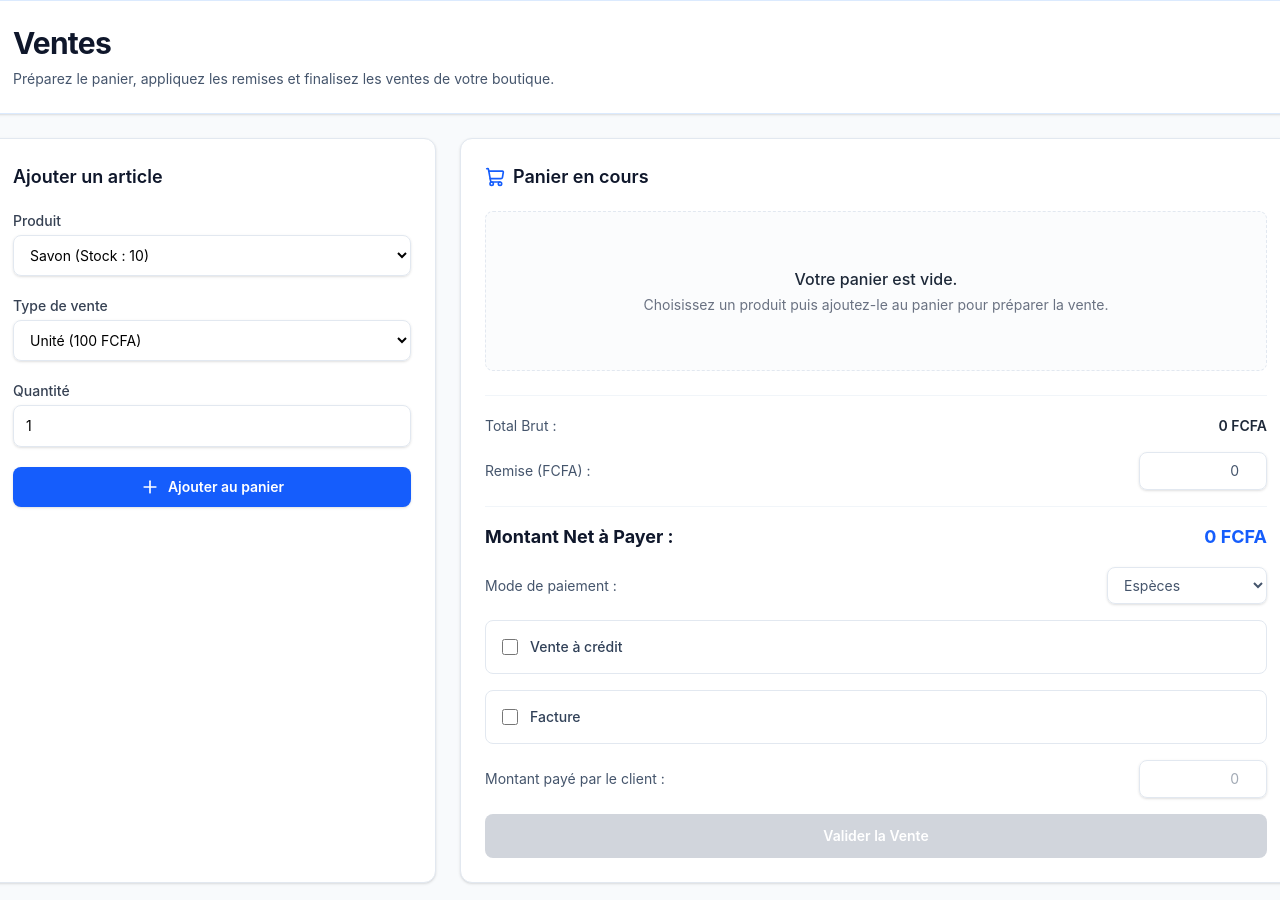
Test: RefusAbonnementExpire, écran Ventes › « Renouveler » ouvre Mon abonnement par-dessus l'écran ; à la fermeture, le panier est intact
Click the button "Ajouter au panier" at (212, 487), box [13,467,411,507]
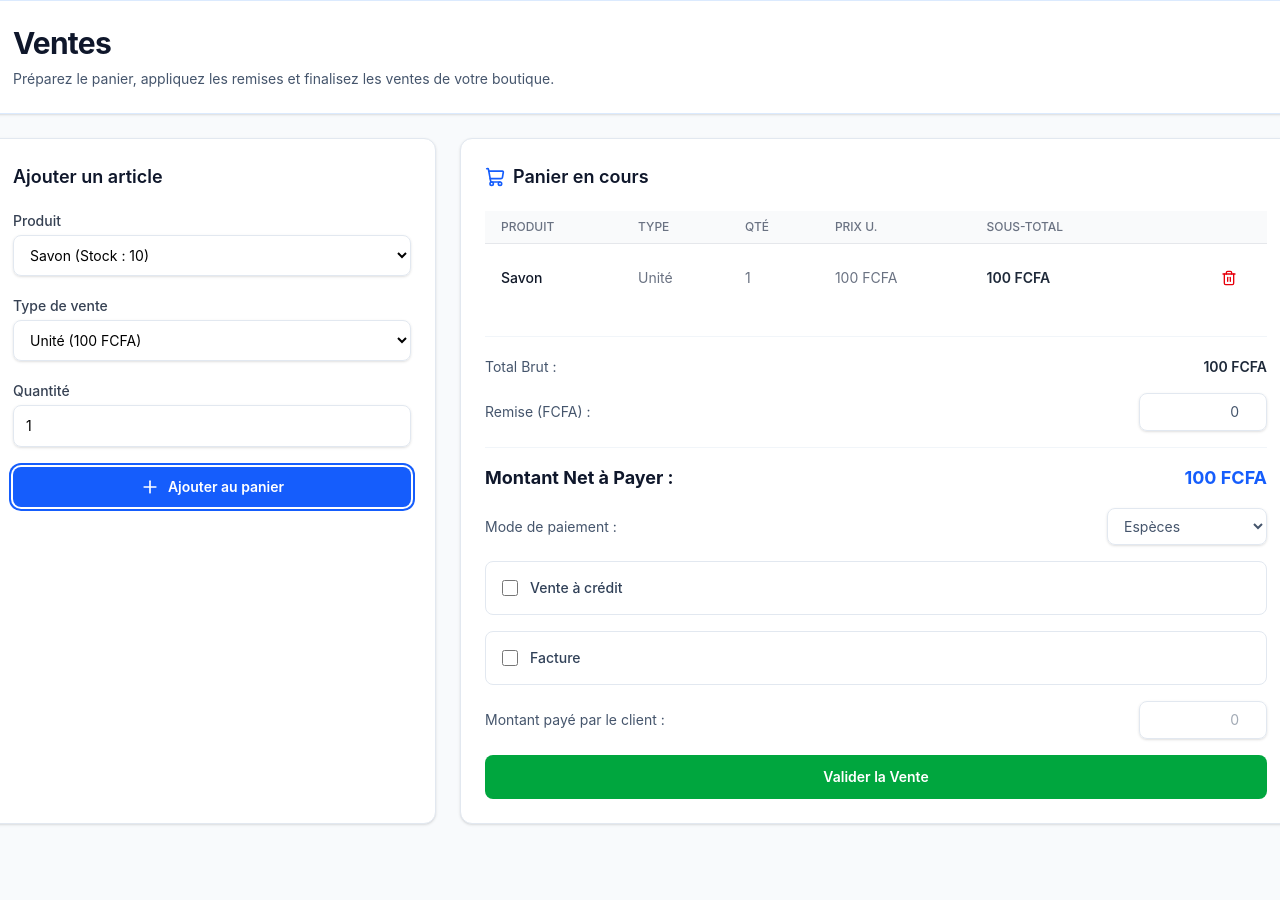
Type "100" into the number field labelled "Montant payé par le client :" at (1203, 720), box [1139,701,1267,739]
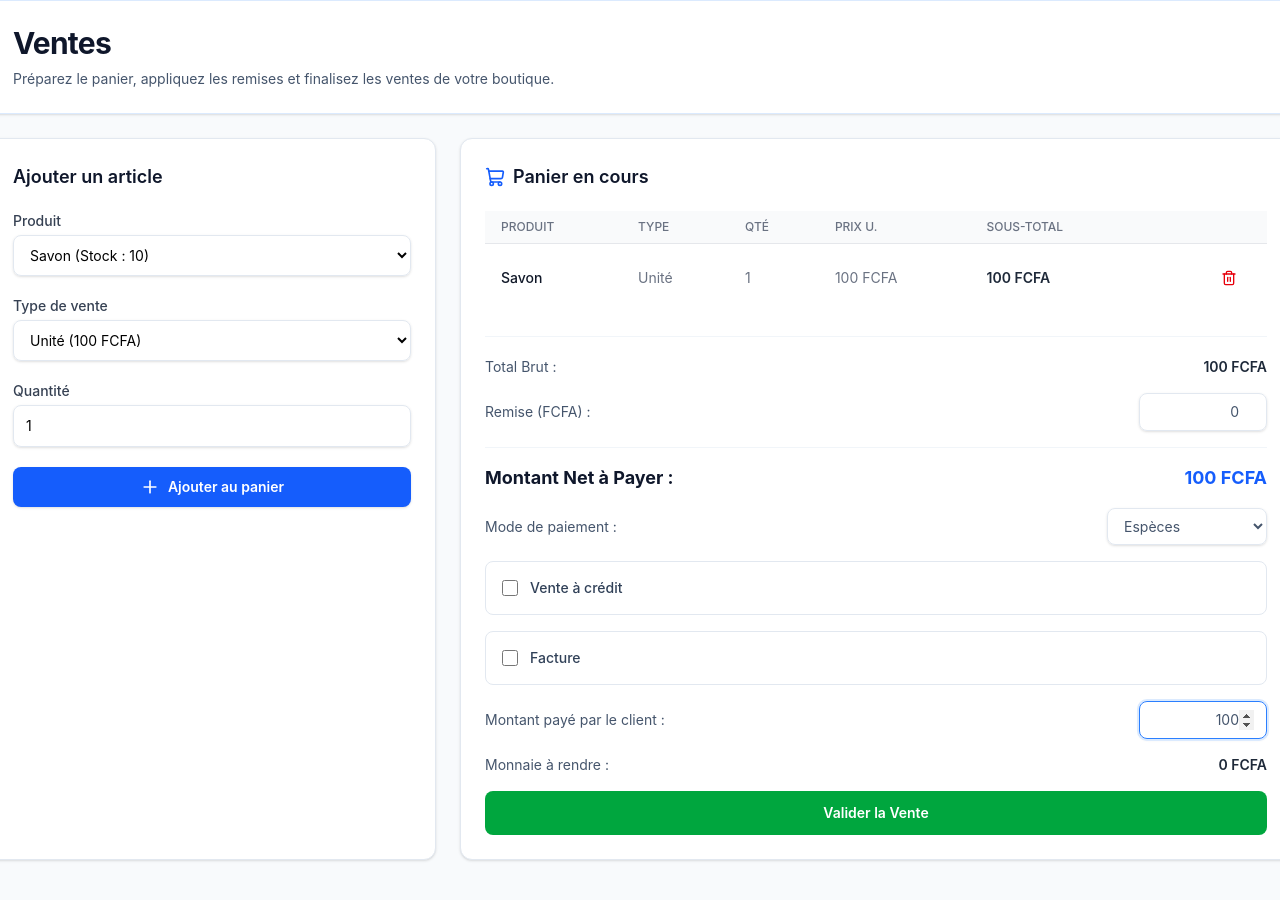
Click the button "Valider la Vente" at (876, 813), box [485,791,1267,835]
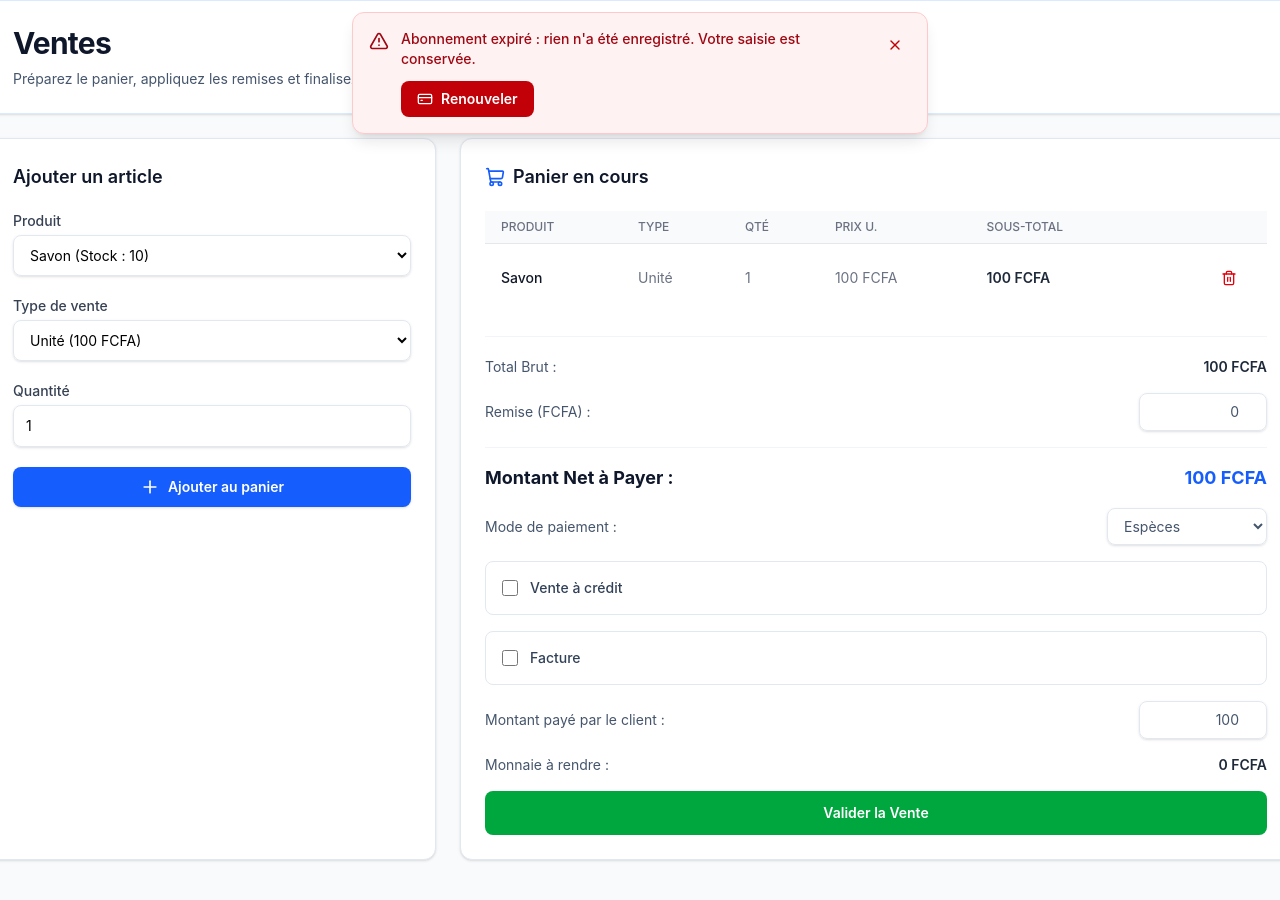
Click the button "Renouveler" at (467, 99), box [401,81,534,117]
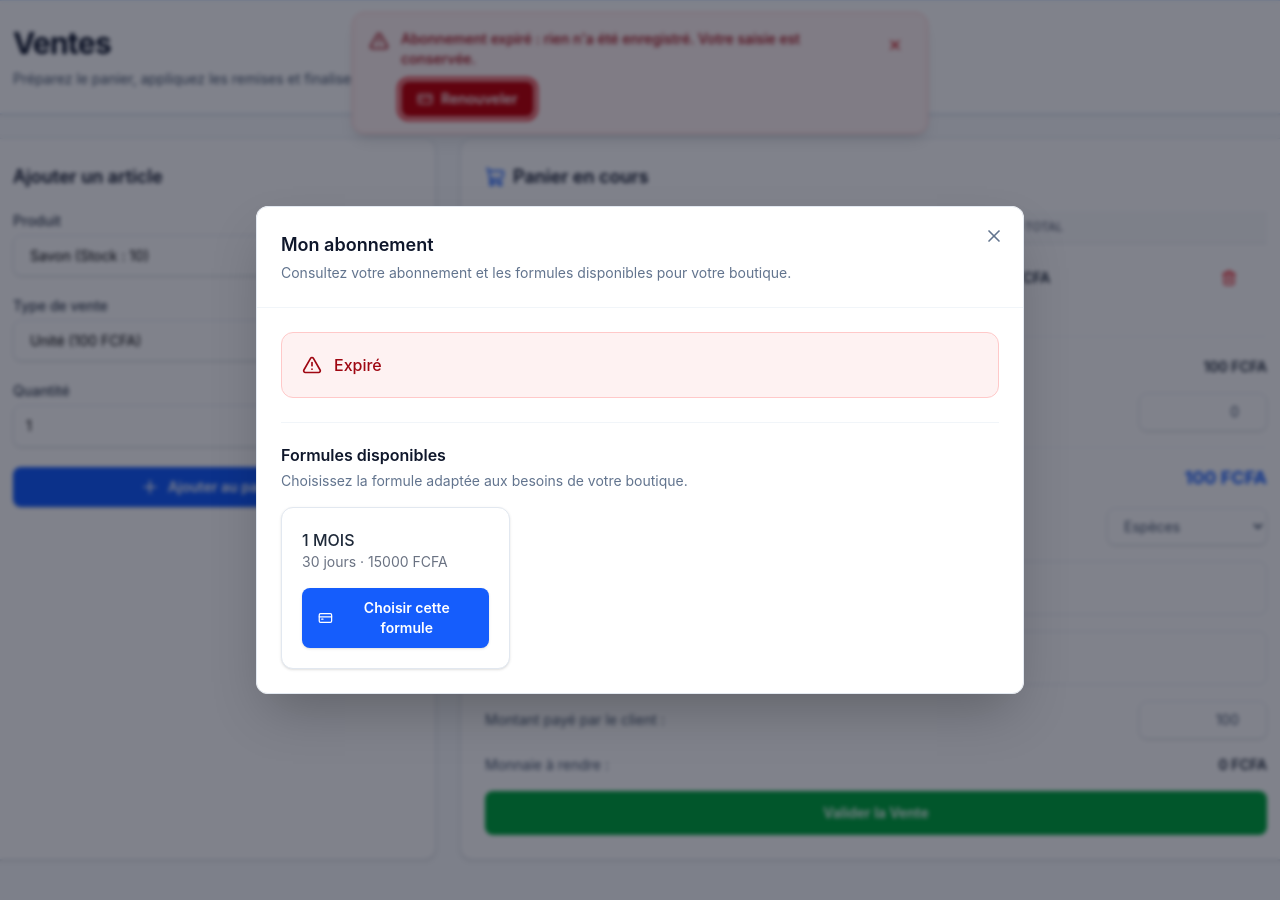
Check: the text "Expiré" is shown, box [334,353,382,377]
Check: the text "1 MOIS" is shown, box [302,530,354,550]
Check: the button "Choisir cette formule" is shown, box [302,588,489,648]
Click the button named "Fermer" at (994, 236), box [976,218,1012,254]
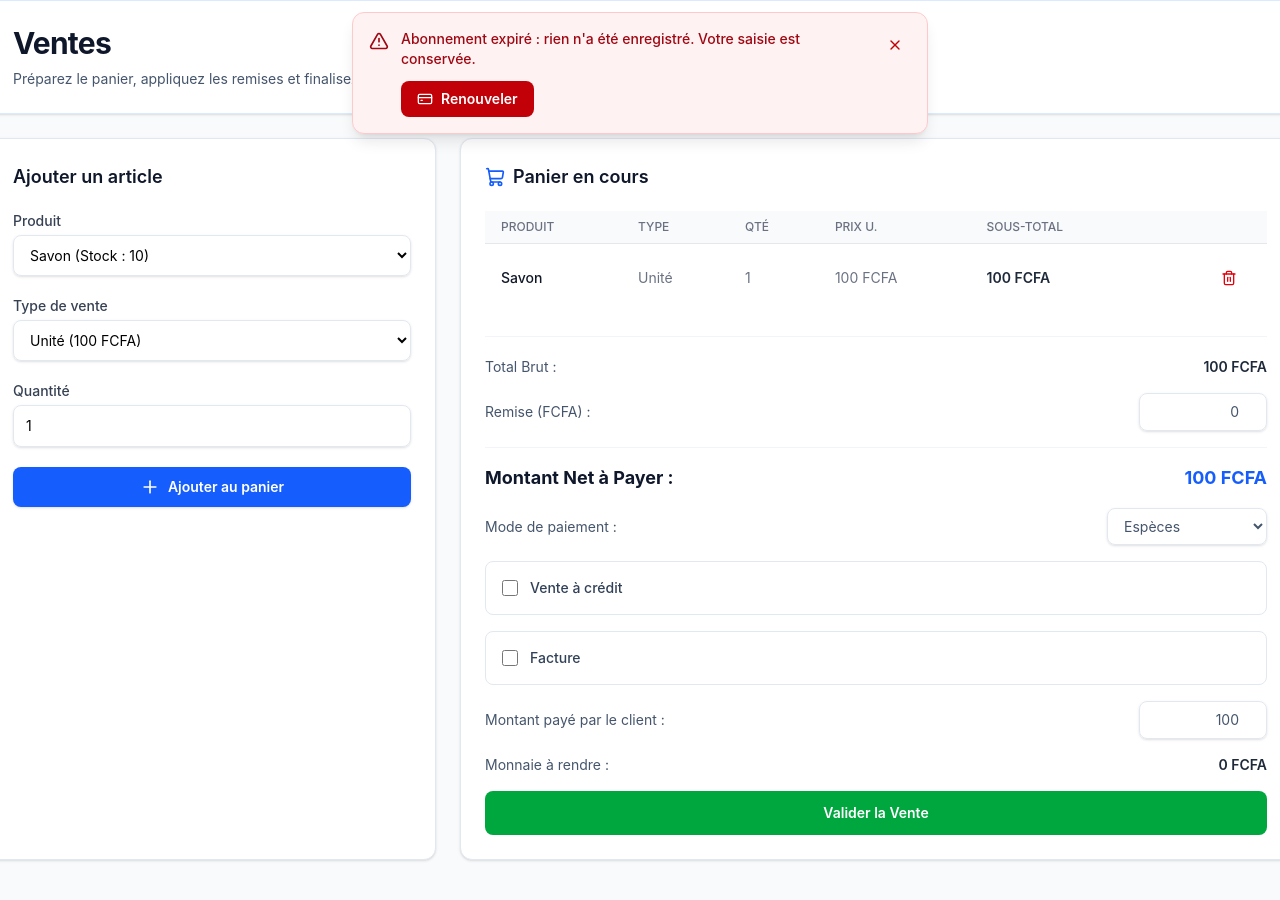
Check: the dialog is gone
